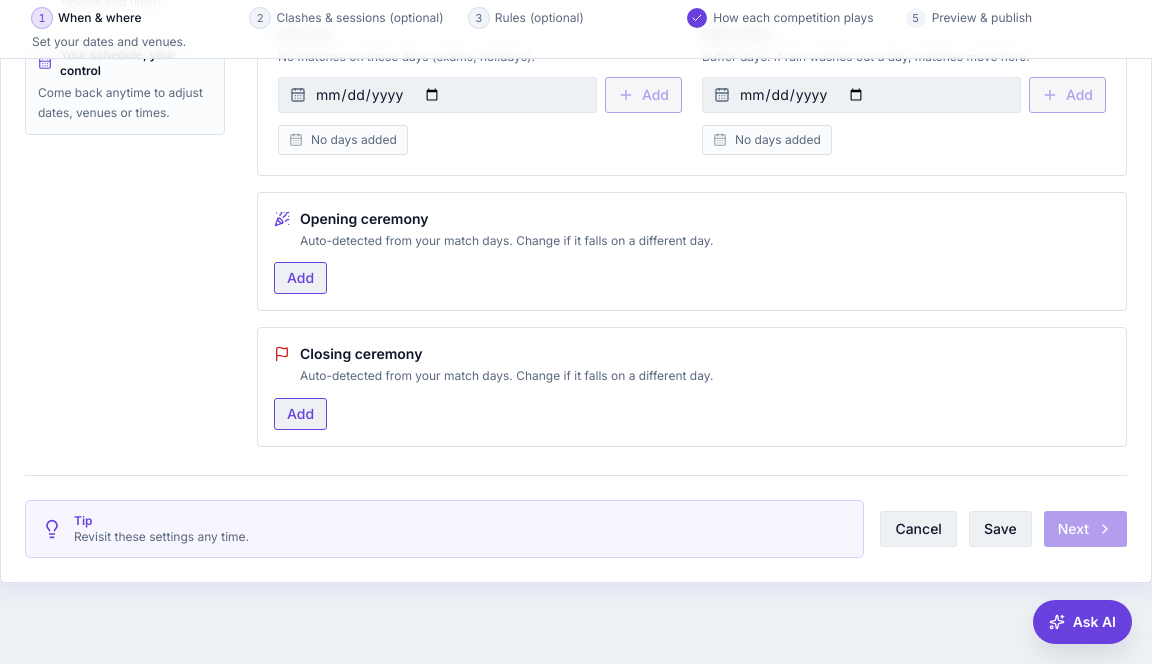
Test: FixtureSetupHub › gate engages on legacy scheduling data: drawn matches + ready leaves never surface Preview before Step 1
(page scrolled)
Click the button "Cancel" at (919, 528), box [880,510,957,546]
(page scrolled)
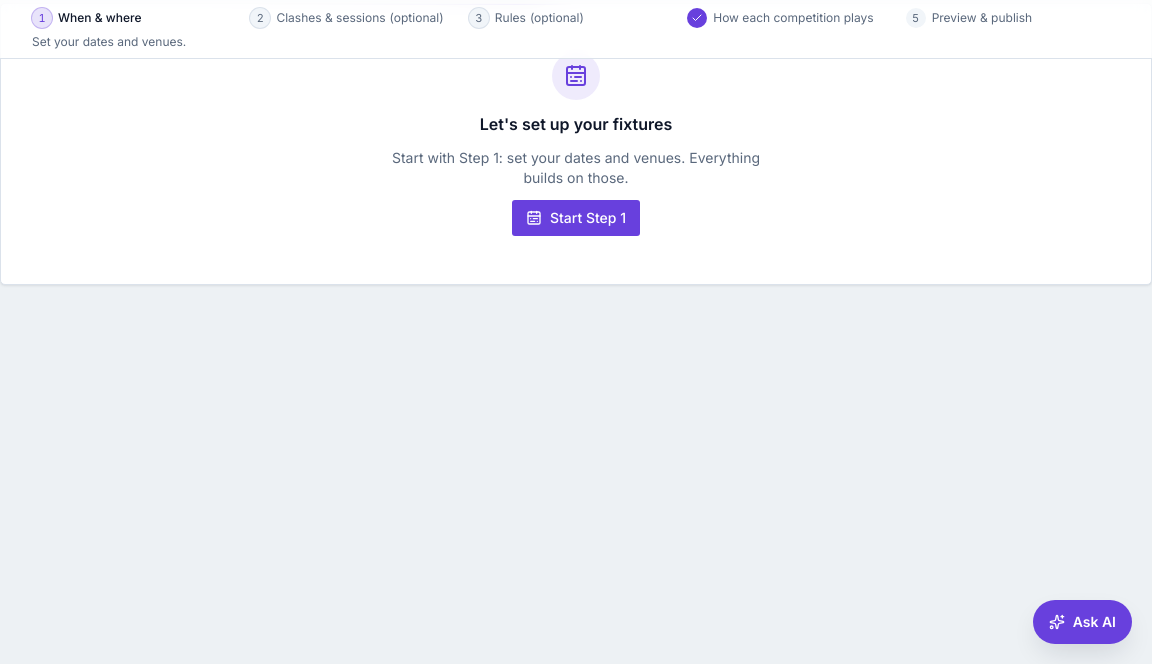
expect the element with test id "global-setup-gate" is shown: met, box [0,3,1151,285]
